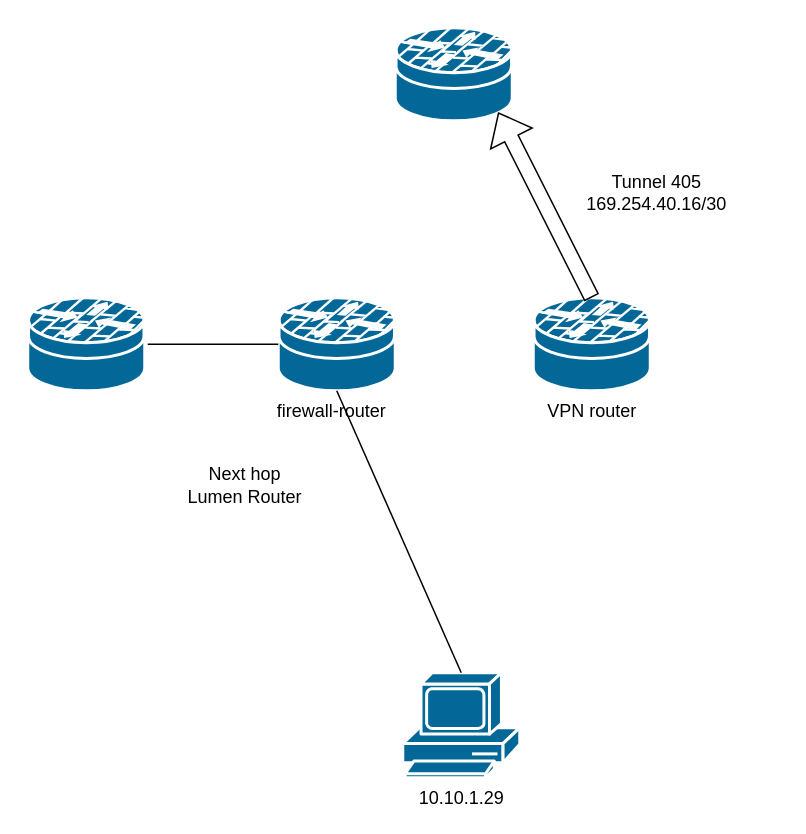
Some shapes in this 806 by 834 pixel diagram are drawn without their labels. Here are the shapes that lost their labels. From the top down, the centre of each, then its label:
pixel 453 74: fw-brb-cp router
pixel 86 344: Lumen Router
